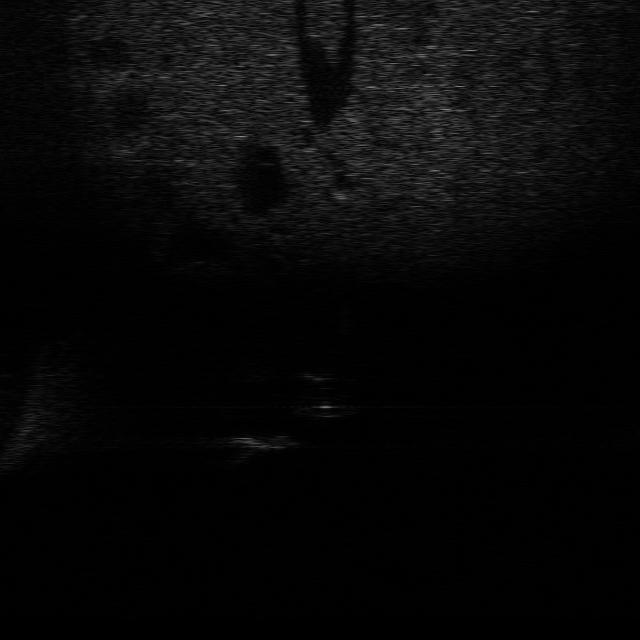ball: (292, 361, 342, 387)
square cage: (216, 430, 302, 465)
tyre: (290, 398, 361, 422)
